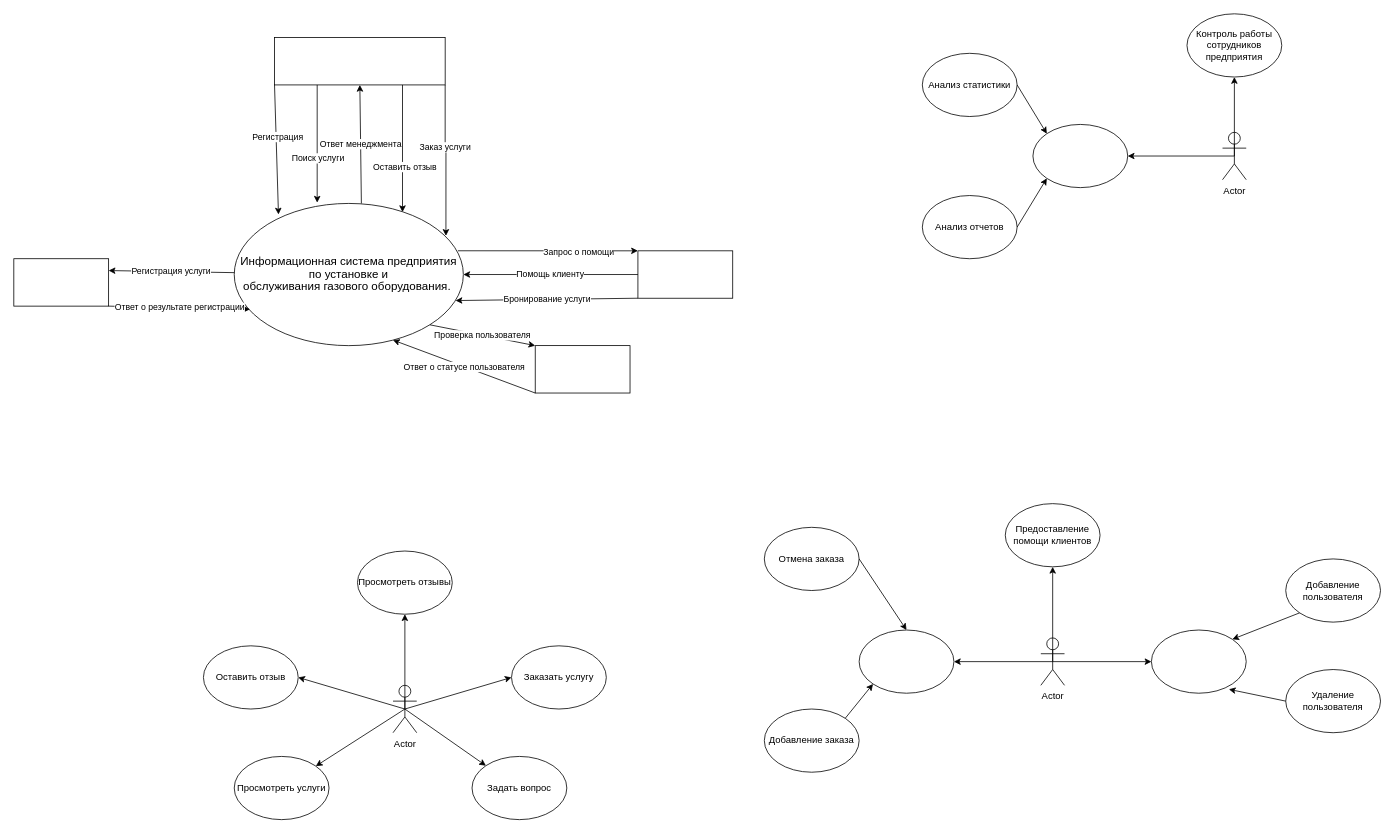
Some shapes in this 1394 by 833 pixel diagram are drawn without their labels. The shapes that lost their labels are listed below. From the top down, each one's centre as x and y in pixels, then its label:
At (x=359, y=61): "Клиент".
At (x=1080, y=156): "Контроль работы системы".
At (x=61, y=282): "Расписание работы предприятия".
At (x=685, y=274): "Менеджмент по работе с клиентами".
At (x=582, y=369): "Черный список".
At (x=906, y=661): "Формирование заказов".
At (x=1198, y=661): "Работа с черным списокм".
